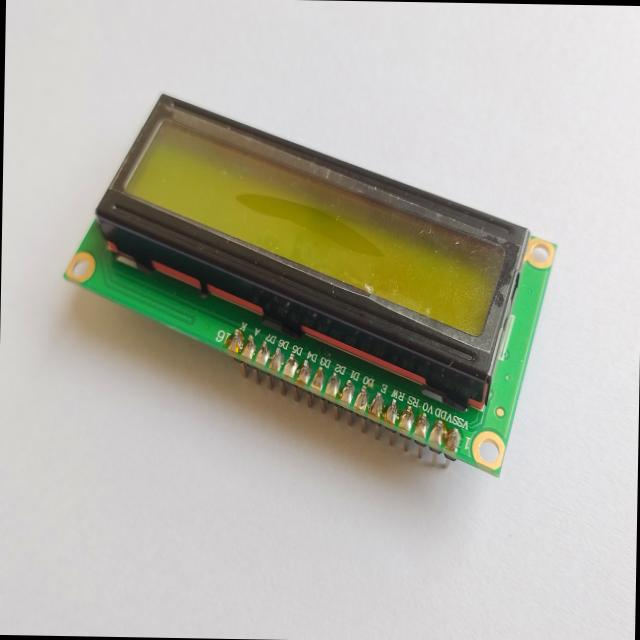lcd: (59, 89, 560, 480)
